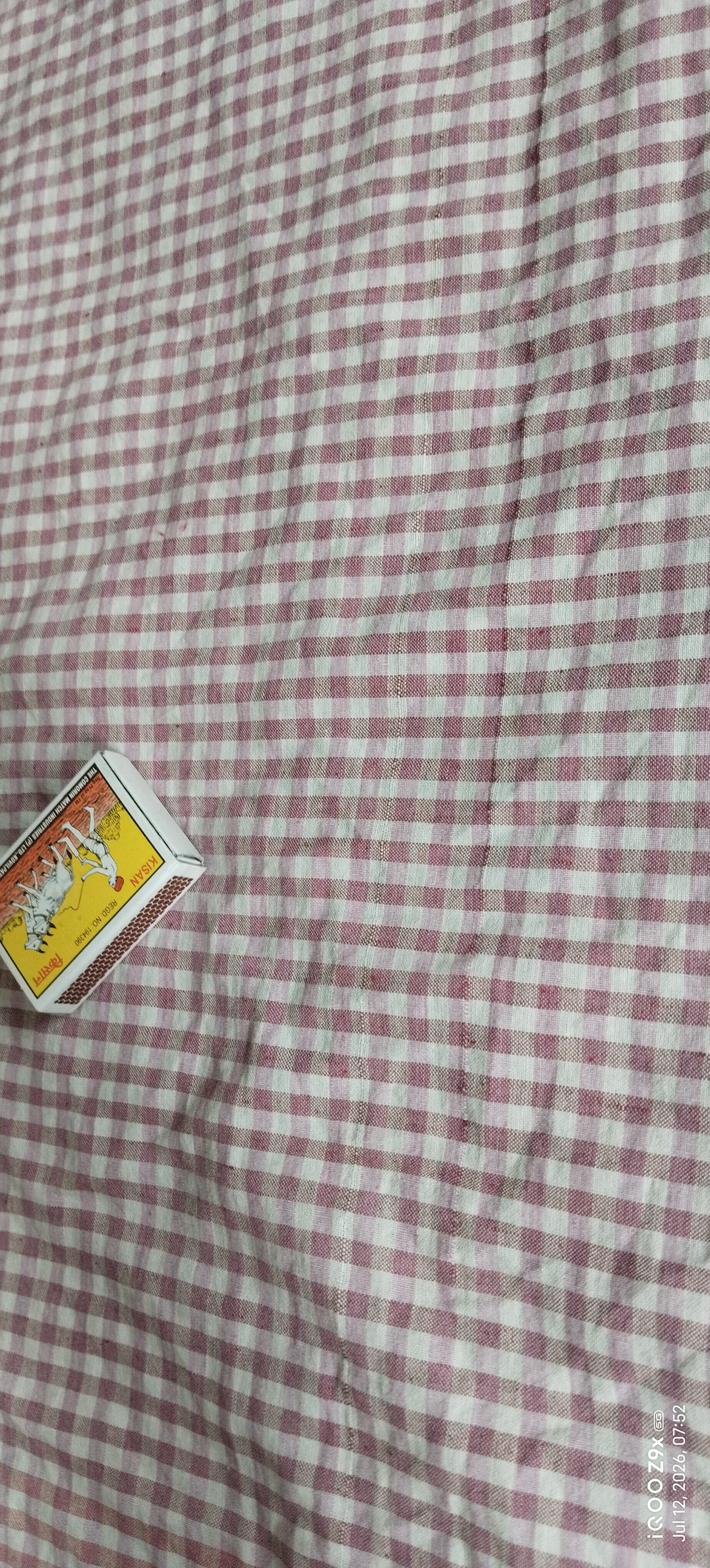matchbox: (0, 733, 217, 1026)
